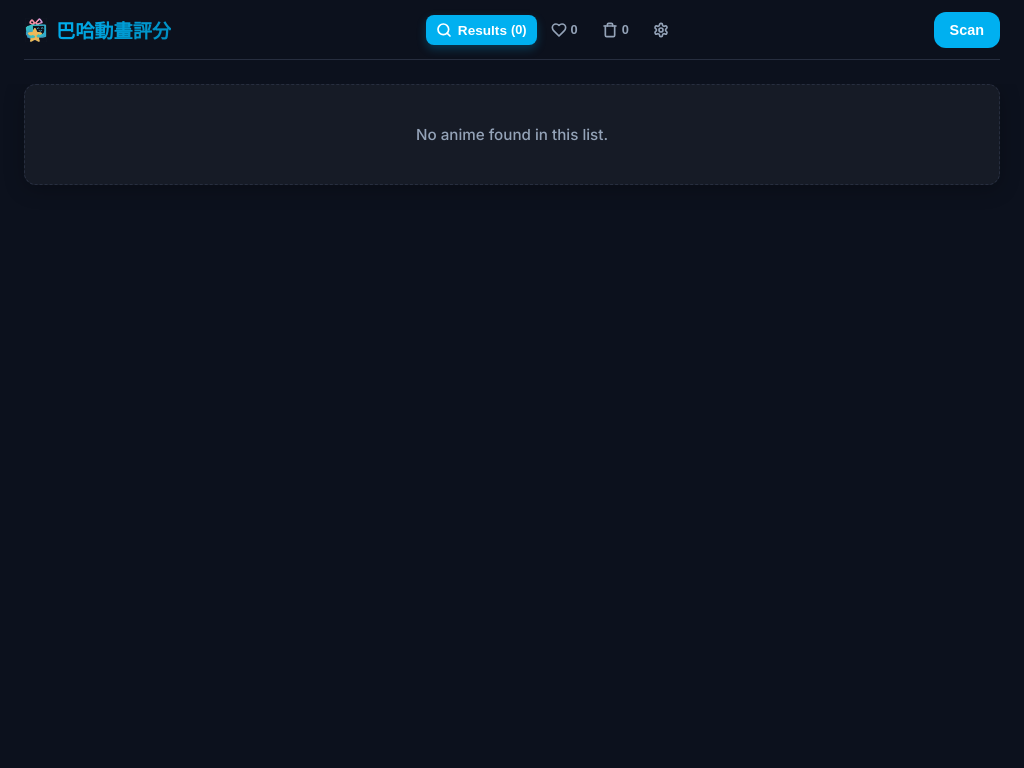
Test case: Scan functionality › renders error card in fatal error container when scan fails or encounters error
Click the button "Scan".
click(967, 30)  # box [934,12,1000,48]
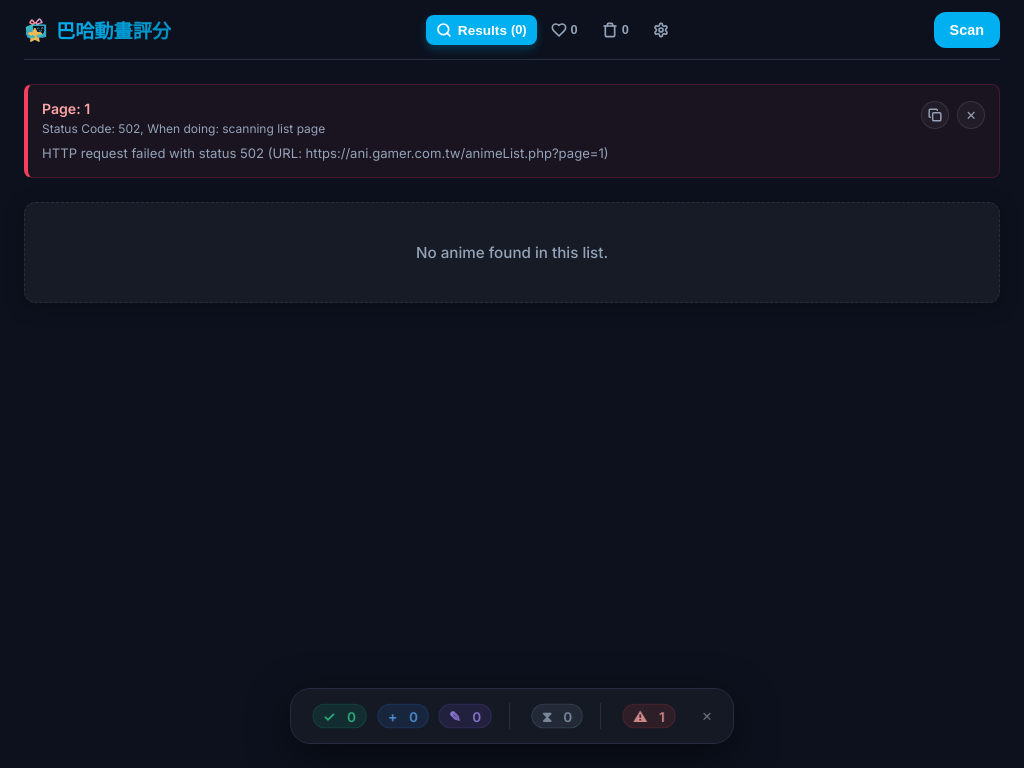
Now the element with test id "fatal-error-container" is shown, box [24,84,1000,178]
Now the text "HTTP request failed with status 502" is shown, box [42,145,609,161]
